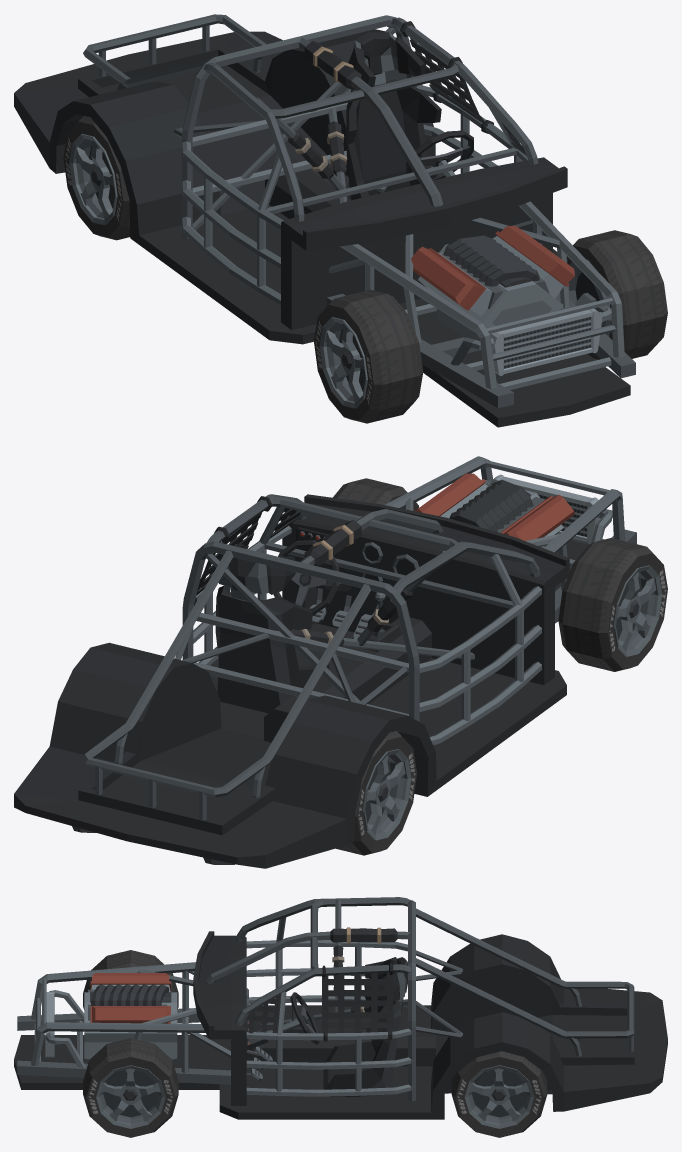
Rendered from SM_Veh_Stock_Car_01.fbx.
3 views of the same model, one above another, from view 1: azimuth 30°, elevation 25°; view 2: azimuth 150°, elevation 25°; view 3: azimuth 270°, elevation 25° (orthographic). The views are drawn at different scales.
Visible parts, largest first — view 1: SM_Veh_Stock_Car_01, SM_Veh_Stock_Car_01_Wheel_FR, SM_Veh_Stock_Car_01_Wheel_FL, SM_Veh_Stock_Car_01_Wheel_RR; view 2: SM_Veh_Stock_Car_01, SM_Veh_Stock_Car_01_Wheel_FR, SM_Veh_Stock_Car_01_Wheel_RR, SM_Veh_Stock_Car_01_Wheel_FL; view 3: SM_Veh_Stock_Car_01, SM_Veh_Stock_Car_01_Wheel_FL, SM_Veh_Stock_Car_01_Wheel_RL, SM_Veh_Stock_Car_01_Wheel_FR.
Part boxes in pixels (bbox=[...]): SM_Veh_Stock_Car_01: bbox=[14, 14, 635, 427]; SM_Veh_Stock_Car_01_Wheel_FR: bbox=[314, 289, 423, 423]; SM_Veh_Stock_Car_01_Wheel_FL: bbox=[567, 230, 667, 360]; SM_Veh_Stock_Car_01_Wheel_RR: bbox=[63, 116, 129, 240]; SM_Veh_Stock_Car_01: bbox=[14, 456, 636, 868]; SM_Veh_Stock_Car_01_Wheel_FR: bbox=[558, 538, 667, 671]; SM_Veh_Stock_Car_01_Wheel_RR: bbox=[336, 731, 416, 855]; SM_Veh_Stock_Car_01_Wheel_FL: bbox=[333, 478, 418, 510]; SM_Veh_Stock_Car_01: bbox=[14, 897, 667, 1119]; SM_Veh_Stock_Car_01_Wheel_FL: bbox=[83, 1038, 178, 1137]; SM_Veh_Stock_Car_01_Wheel_RL: bbox=[451, 1051, 547, 1137]; SM_Veh_Stock_Car_01_Wheel_FR: bbox=[83, 950, 178, 1009].
Size of the model in its own units: 201 by 139 by 517.
